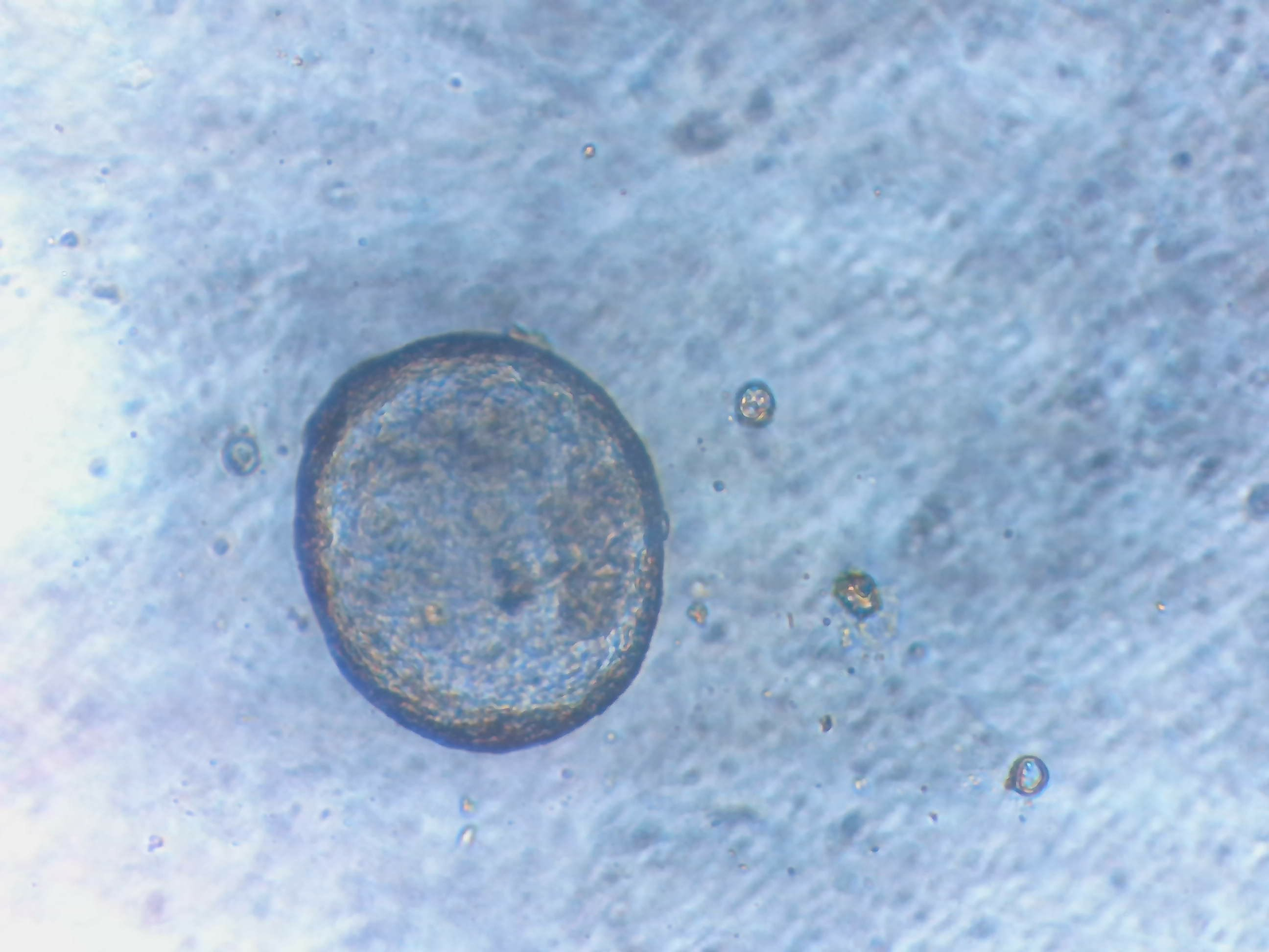organoid: (311, 338, 676, 757)
